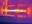Hotspot: (3, 9, 28, 13)
